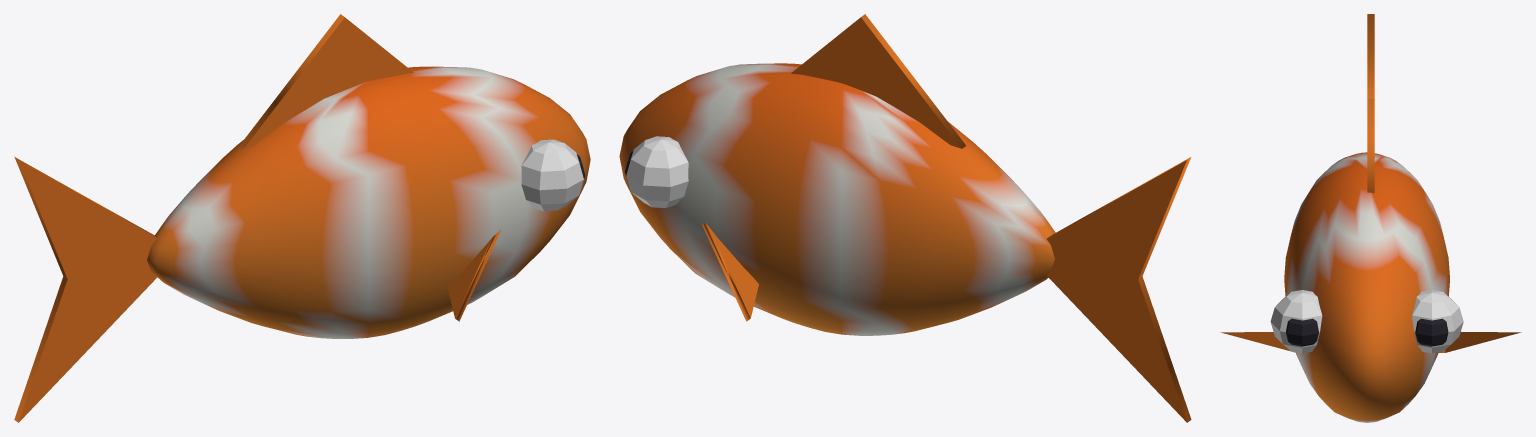
The model's file is fish_sea2_lite.glb.
3 views of the same model, side by side, from view 1: azimuth 30°, elevation 25°; view 2: azimuth 150°, elevation 25°; view 3: azimuth 270°, elevation 25° (orthographic). The views are drawn at different scales.
Parts seen in each view (by area): view 1: p; view 2: p; view 3: p.
Part boxes in pixels (x1,y1,x2,y2): p: (14,14,590,422); p: (619,14,1191,422); p: (1220,14,1521,422).
Bounding box in the file's own units: 0.904 × 0.4958 × 0.473.
